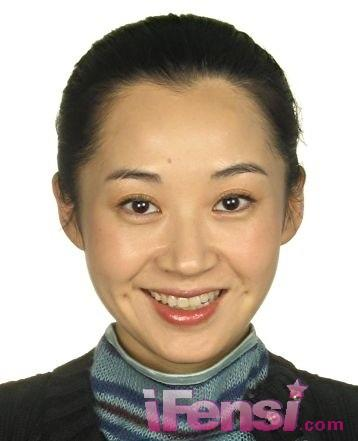unmask: (93, 111, 285, 355)
